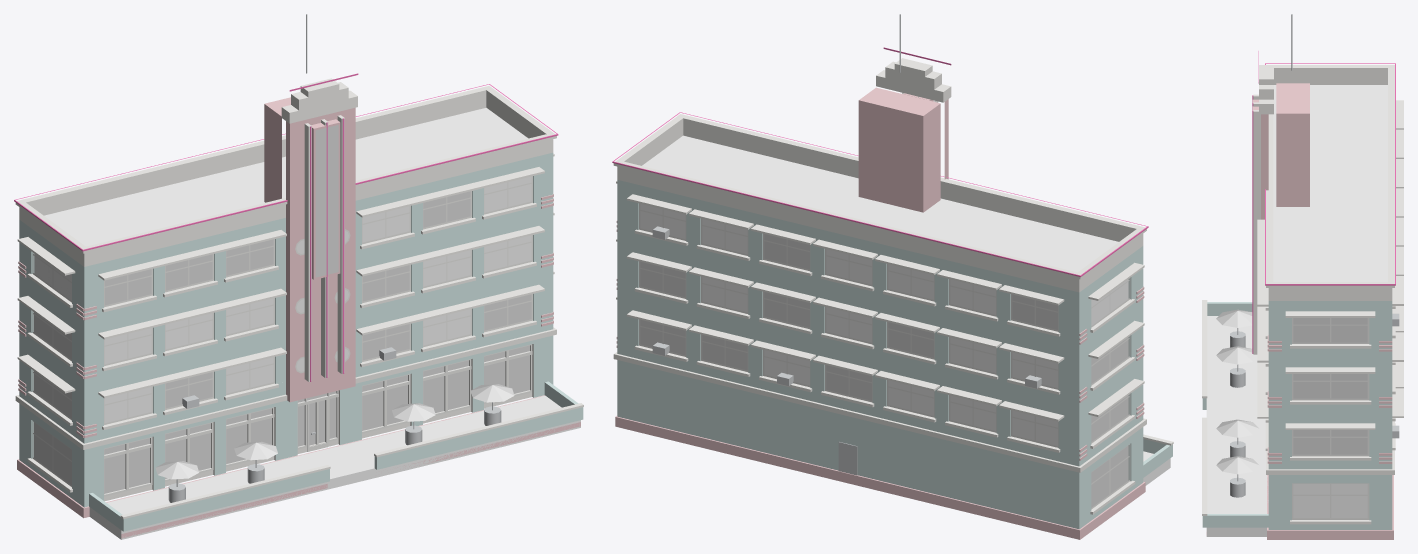
File: deco_w100f3s.glb
3 views of the same model, side by side, from view 1: azimuth 30°, elevation 25°; view 2: azimuth 150°, elevation 25°; view 3: azimuth 270°, elevation 25° (orthographic). The views are drawn at different scales.
Visible parts, largest first — view 1: deco_w100f3s_Walls, deco_w100f3s_Trim, deco_w100f3s_WindowsLit, deco_w100f3s_Accent, deco_w100f3s_Roof, deco_w100f3s_Glass, deco_w100f3s_Frames, deco_w100f3s_Walls2, deco_w100f3s_Neon, deco_w100f3s_Brand, deco_w100f3s_Awning, deco_w100f3s_Details; view 2: deco_w100f3s_Walls, deco_w100f3s_Trim, deco_w100f3s_Roof, deco_w100f3s_Accent, deco_w100f3s_Glass, deco_w100f3s_WindowsLit, deco_w100f3s_Frames, deco_w100f3s_Neon, deco_w100f3s_Details; view 3: deco_w100f3s_Trim, deco_w100f3s_Roof, deco_w100f3s_Walls, deco_w100f3s_Walls2, deco_w100f3s_Accent, deco_w100f3s_WindowsLit, deco_w100f3s_Glass, deco_w100f3s_Awning, deco_w100f3s_Frames, deco_w100f3s_Details, deco_w100f3s_Neon.
Part boxes in pixels (x1,y1,x2,y2): deco_w100f3s_Walls: (19,152,583,531); deco_w100f3s_Trim: (15,78,583,519); deco_w100f3s_WindowsLit: (34,191,531,493); deco_w100f3s_Accent: (17,97,580,538); deco_w100f3s_Roof: (44,107,528,246); deco_w100f3s_Glass: (34,176,531,423); deco_w100f3s_Frames: (32,176,532,496); deco_w100f3s_Walls2: (89,395,580,539); deco_w100f3s_Neon: (14,73,558,381); deco_w100f3s_Brand: (315,125,338,277); deco_w100f3s_Awning: (155,384,514,479); deco_w100f3s_Details: (168,14,501,502); deco_w100f3s_Walls: (617,180,1172,529); deco_w100f3s_Trim: (613,58,1173,514); deco_w100f3s_Roof: (642,135,1118,272); deco_w100f3s_Accent: (615,87,1145,539); deco_w100f3s_Glass: (640,203,1128,445); deco_w100f3s_WindowsLit: (640,234,1128,507); deco_w100f3s_Frames: (639,203,1130,509); deco_w100f3s_Neon: (612,47,1148,277); deco_w100f3s_Details: (652,14,1041,475); deco_w100f3s_Trim: (1202,65,1403,524); deco_w100f3s_Roof: (1273,85,1387,281); deco_w100f3s_Walls: (1202,301,1392,529); deco_w100f3s_Walls2: (1206,316,1268,536); deco_w100f3s_Accent: (1206,83,1393,539); deco_w100f3s_WindowsLit: (1293,318,1367,454); deco_w100f3s_Glass: (1293,484,1367,518); deco_w100f3s_Awning: (1216,309,1259,474); deco_w100f3s_Frames: (1292,318,1369,519); deco_w100f3s_Details: (1230,14,1399,497); deco_w100f3s_Neon: (1252,51,1395,353).
Bounding box in the file's own units: 104 × 89 × 39.1.
